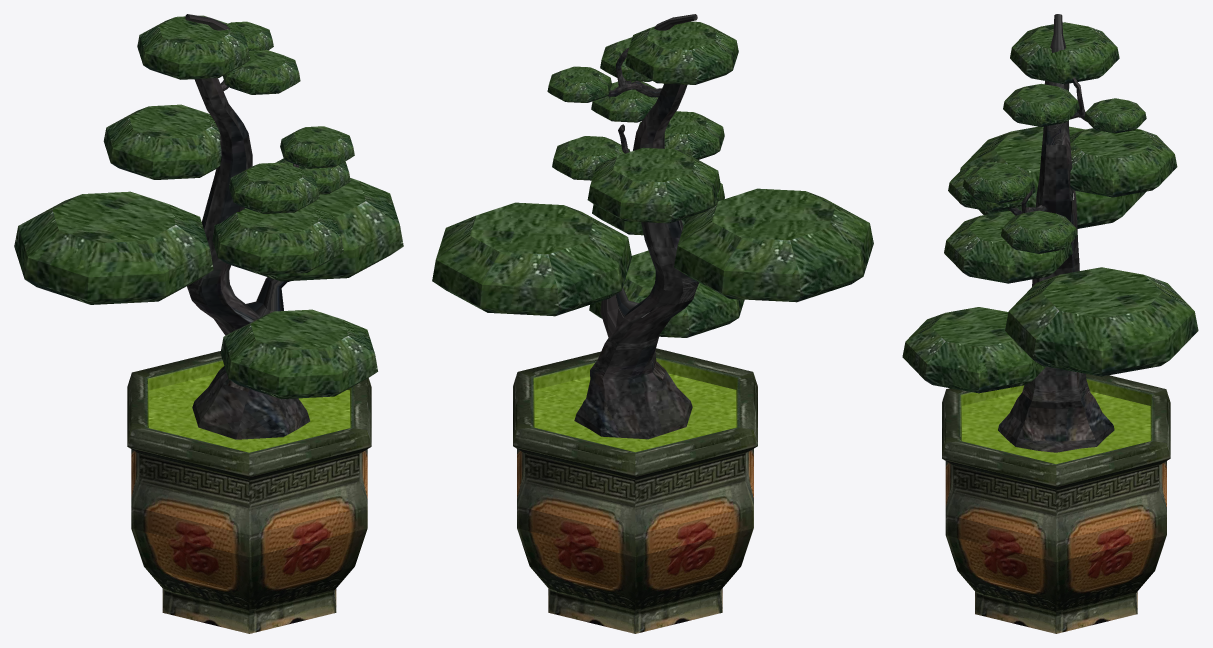
The model's file is cay-tung-2.glb.
The picture shows the model from 3 angles, left to right: view 1: azimuth 30°, elevation 25°; view 2: azimuth 150°, elevation 25°; view 3: azimuth 270°, elevation 25°; orthographic projection. The views are drawn at different scales.
Visible parts, largest first — view 1: Tung_2; view 2: Tung_2; view 3: Tung_2.
Part boxes in pixels (x1,y1,x2,y2): Tung_2: (14, 14, 403, 633); Tung_2: (432, 14, 873, 633); Tung_2: (902, 14, 1198, 633).
Bounding box in the file's own units: 0.601 × 0.8602 × 0.4174.
1 material, 1 textured.
